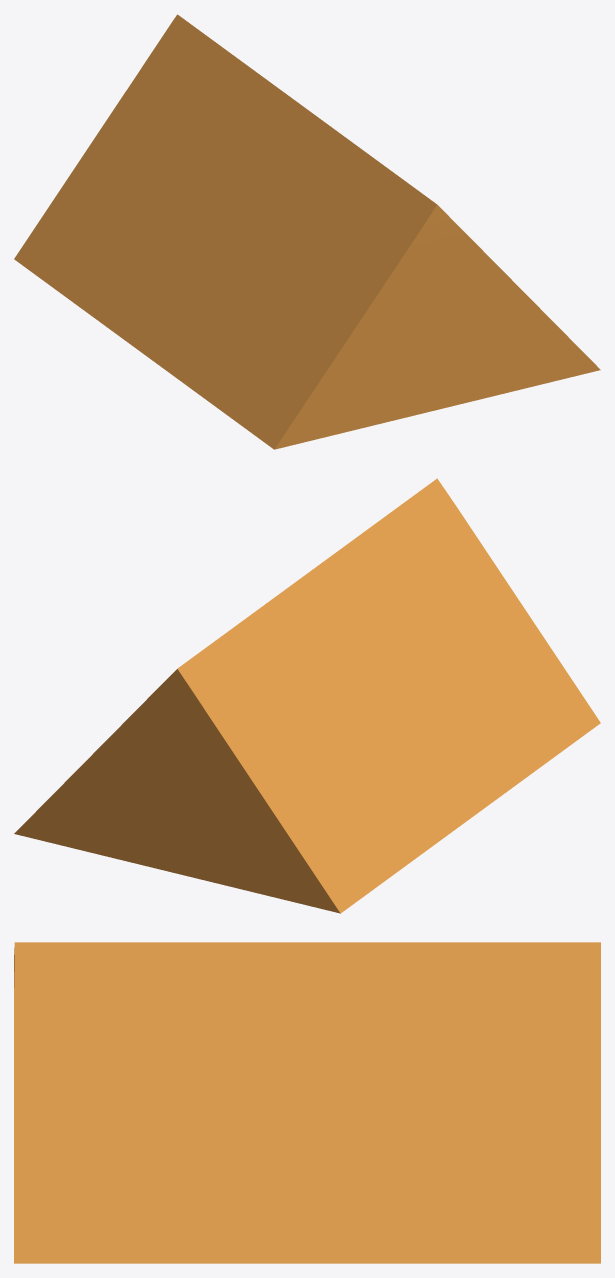
The model's file is prisme_vertex.glb.
3 views of the same model, one above another, from view 1: azimuth 30°, elevation 25°; view 2: azimuth 150°, elevation 25°; view 3: azimuth 270°, elevation 25° (orthographic). The views are drawn at different scales.
Visible parts, largest first — view 1: prisme; view 2: prisme; view 3: prisme.
Part boxes in pixels (<box>): prisme: <box>14,14,600,449</box>; prisme: <box>14,478,600,913</box>; prisme: <box>14,942,600,1263</box>.
Size of the model in its own units: 0.7721 by 0.4632 by 1.07.
